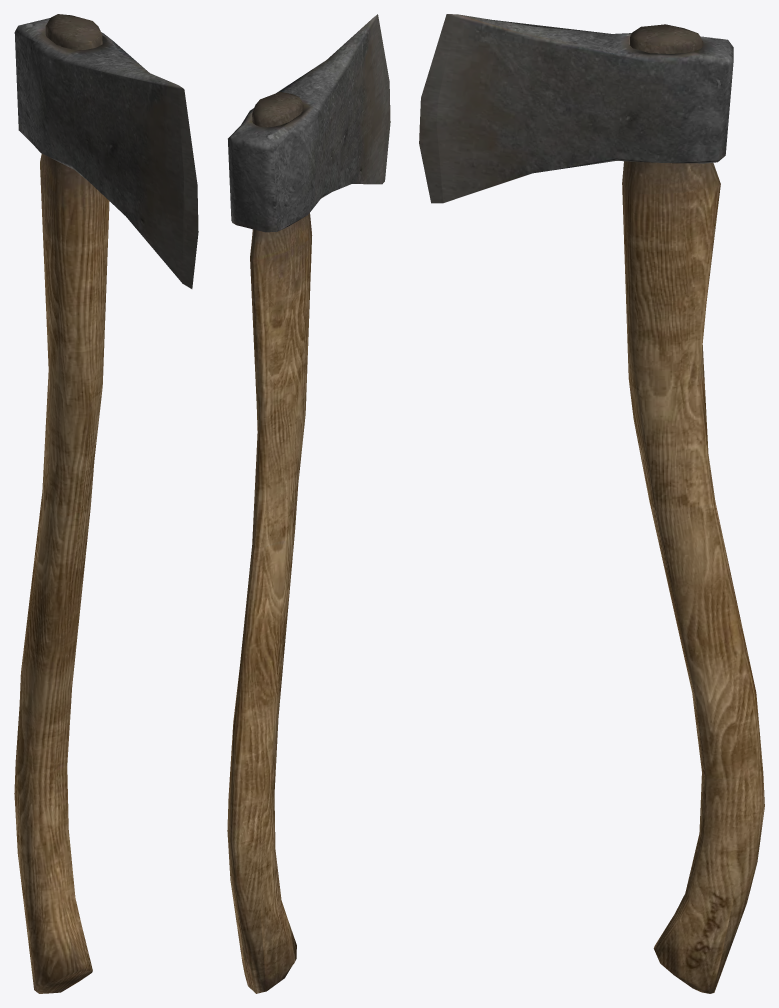
Rendered from wooden_axe_02.glb.
3 renders of one model, left to right at view 1: azimuth 30°, elevation 25°; view 2: azimuth 150°, elevation 25°; view 3: azimuth 270°, elevation 25°, orthographic. The views are drawn at different scales.
Parts seen in each view (by area): view 1: wooden_axe_02; view 2: wooden_axe_02; view 3: wooden_axe_02.
Boxes of the visible parts, <box> form: wooden_axe_02: <box>14,14,198,993</box>; wooden_axe_02: <box>227,14,390,993</box>; wooden_axe_02: <box>419,14,764,993</box>.
Bounding box in the file's own units: 0.0492 × 0.7041 × 0.2255.
1 material, 1 textured.
